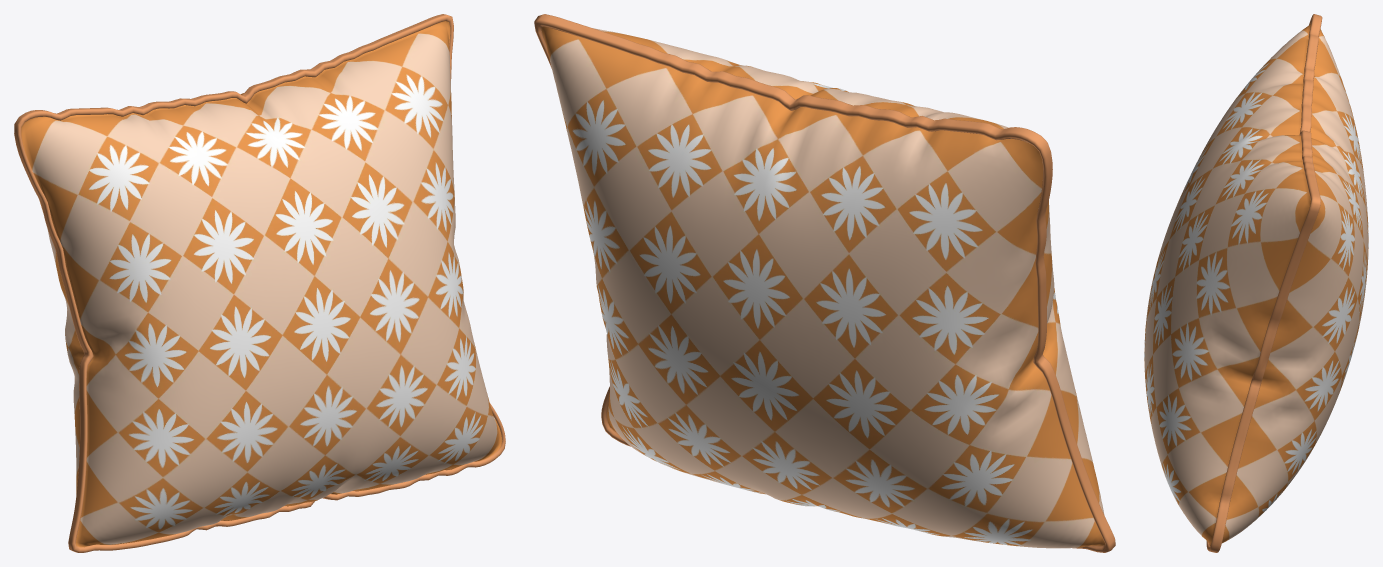
3 views of the same model, side by side, from view 1: azimuth 30°, elevation 25°; view 2: azimuth 150°, elevation 25°; view 3: azimuth 270°, elevation 25° (orthographic). The views are drawn at different scales.
Parts seen in each view (by area): view 1: Obj3d66-18121221-2-682, Obj3d66-18121221-3-949; view 2: Obj3d66-18121221-2-682, Obj3d66-18121221-3-949; view 3: Obj3d66-18121221-2-682, Obj3d66-18121221-3-949.
Part boxes in pixels (x1,y1,x2,y2): Obj3d66-18121221-2-682: (21,21,502,547); Obj3d66-18121221-3-949: (14,14,505,552); Obj3d66-18121221-2-682: (541,26,1104,548); Obj3d66-18121221-3-949: (534,14,1115,552); Obj3d66-18121221-2-682: (1144,23,1368,546); Obj3d66-18121221-3-949: (1206,14,1322,552).
Size of the model in its own units: 0.4843 by 0.4331 by 0.2412.
Materials: 2 (1 with a texture image).
